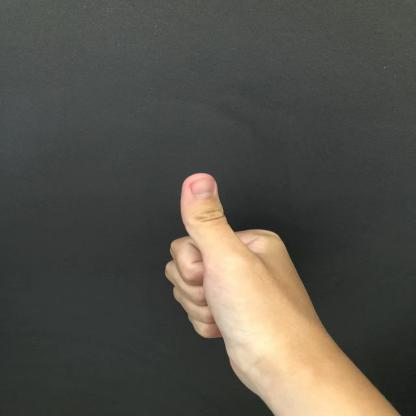Thumbs-Up: (138, 159, 322, 343)
